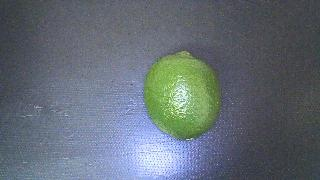EXPORTACION: (144, 51, 221, 140)
